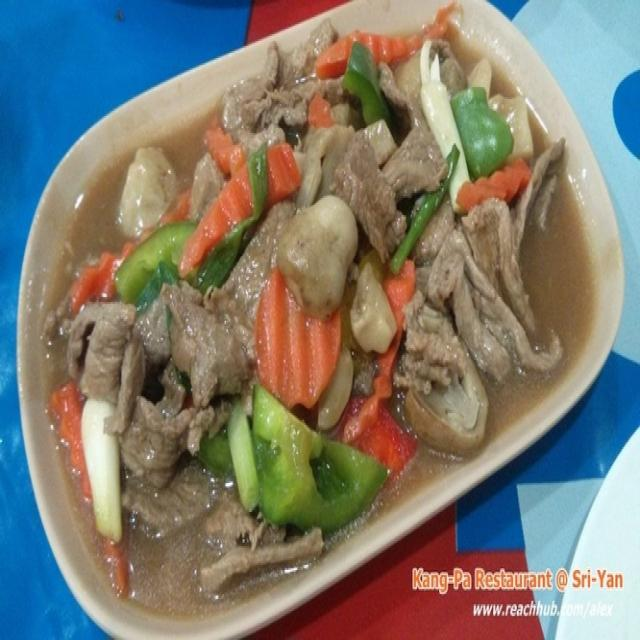牛肉菜式: (62, 43, 598, 614)
